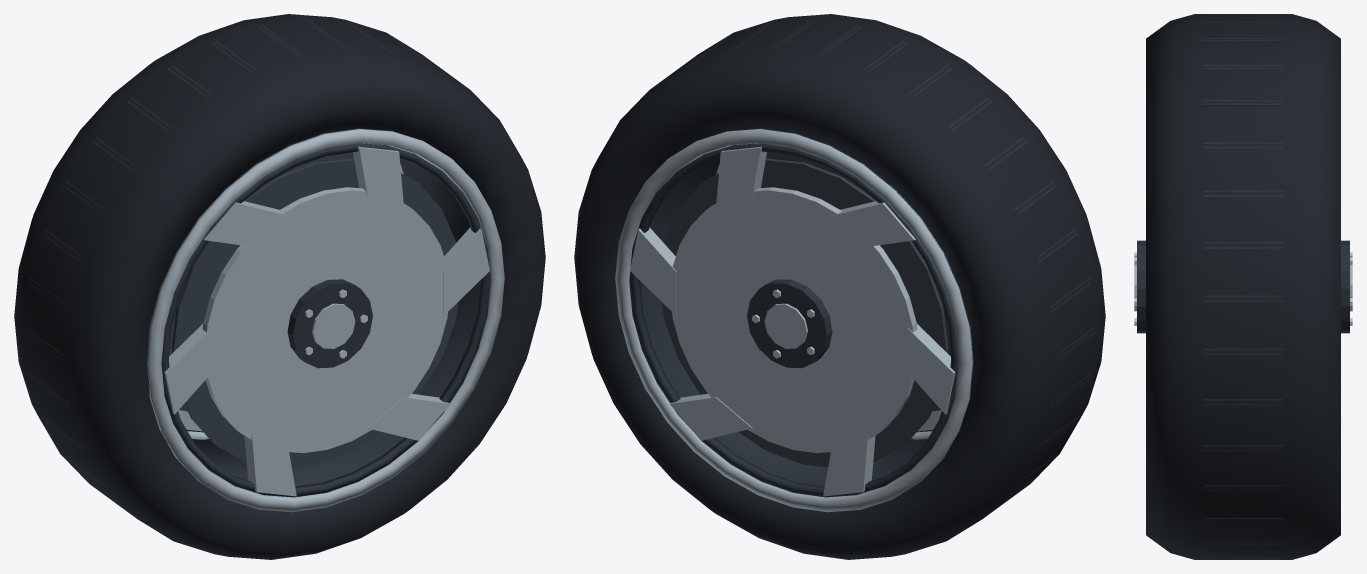
File: aero.glb
The picture shows the model from 3 angles, left to right: view 1: azimuth 30°, elevation 25°; view 2: azimuth 150°, elevation 25°; view 3: azimuth 270°, elevation 25°; orthographic projection.
Parts seen in each view (by area): view 1: wheel; view 2: wheel; view 3: wheel.
Part boxes in pixels (x1=…): wheel: x1=14, y1=14, x2=545, y2=559; wheel: x1=574, y1=14, x2=1105, y2=559; wheel: x1=1134, y1=14, x2=1352, y2=559.
Bounding box in the file's own units: 2 × 2 × 0.8.
